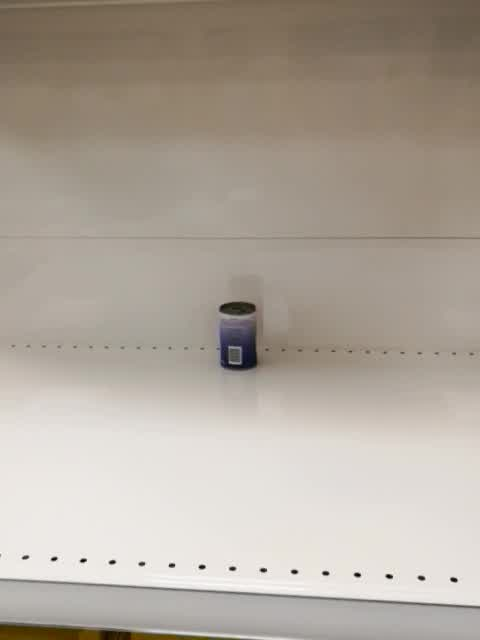sardine: (217, 301, 260, 372)
